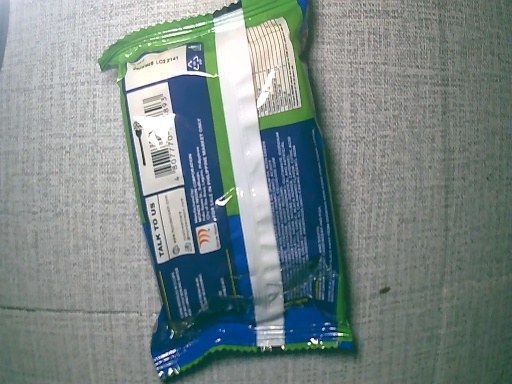plastic: (97, 1, 357, 381)
